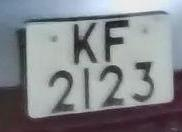1: (77, 64, 98, 112)
2: (40, 64, 84, 114), (96, 61, 129, 111)
3: (130, 56, 158, 106)
F: (100, 14, 134, 66)
K: (67, 16, 102, 71)
